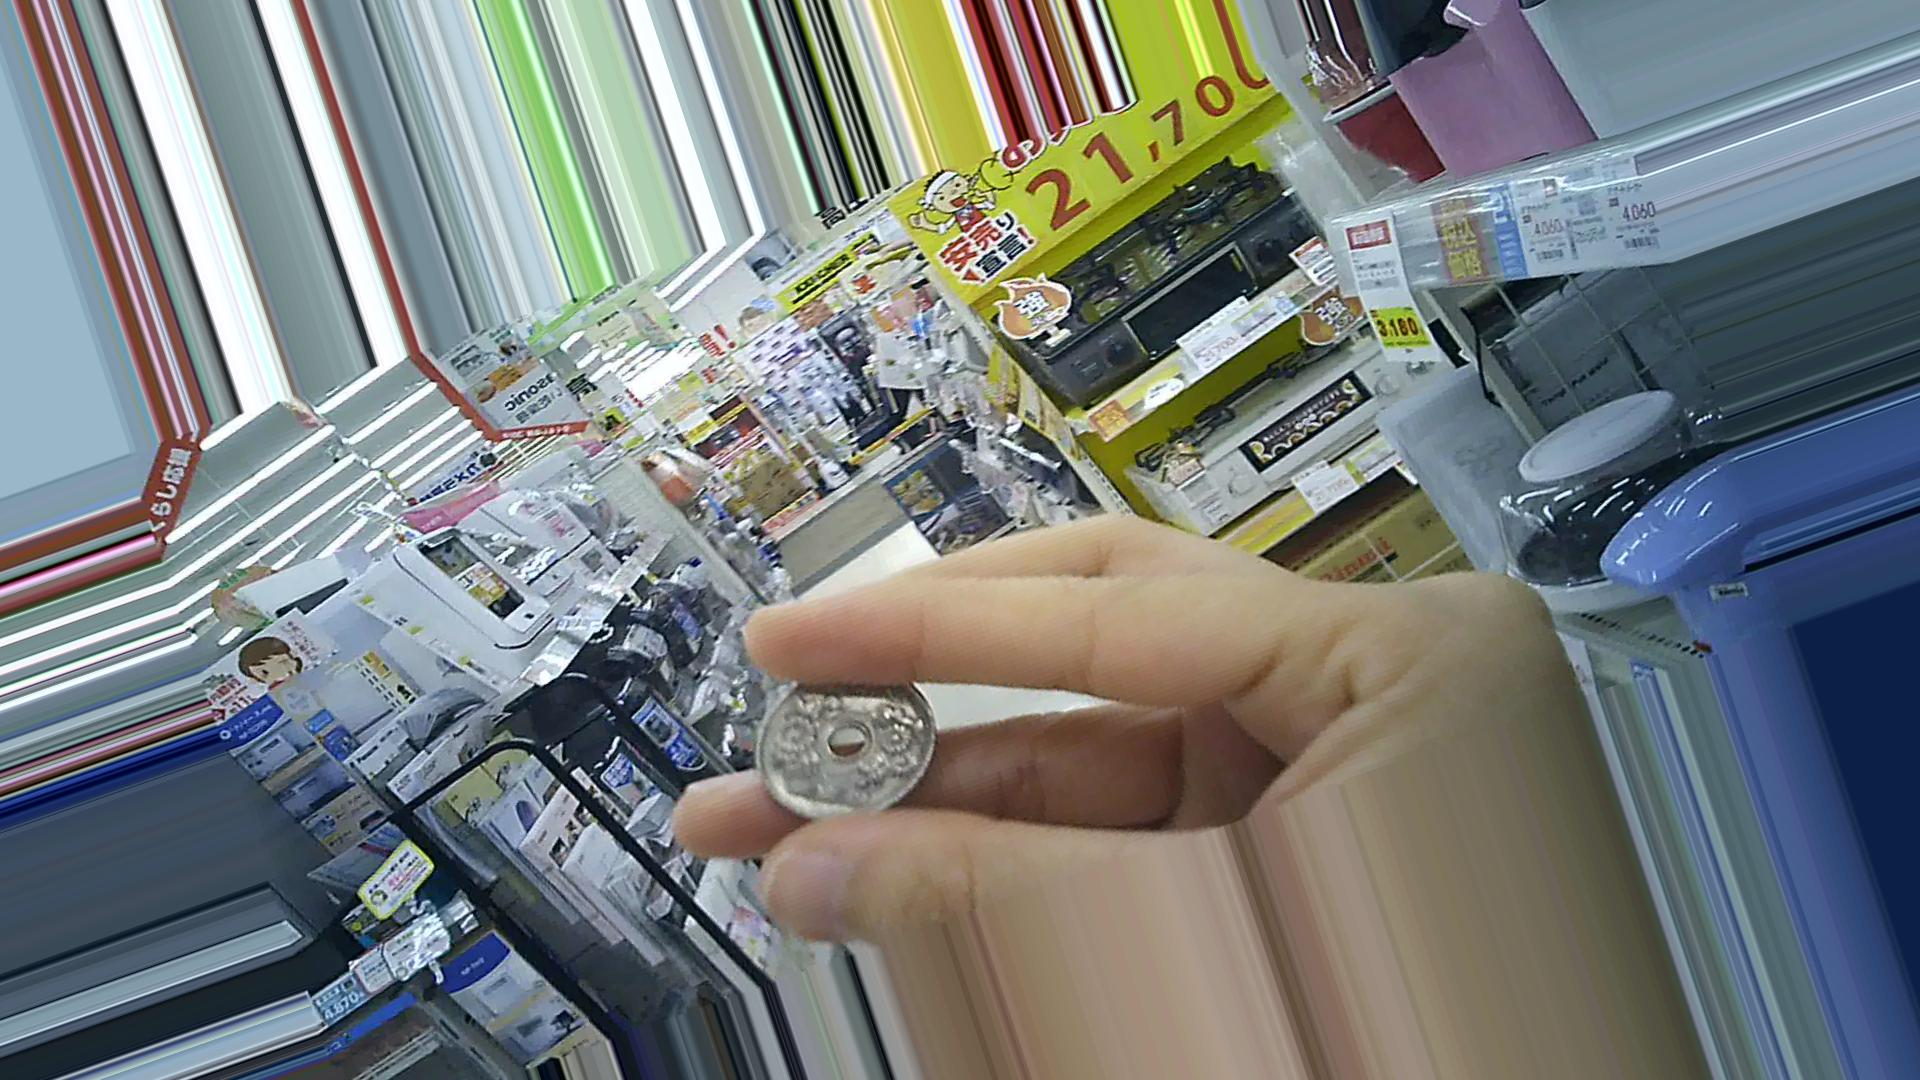50 Yen: (748, 666, 951, 848)
